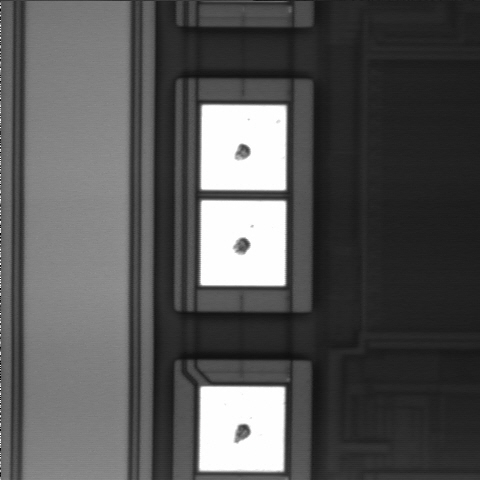pad: (201, 200, 286, 286), (201, 105, 286, 190), (199, 387, 285, 471)
